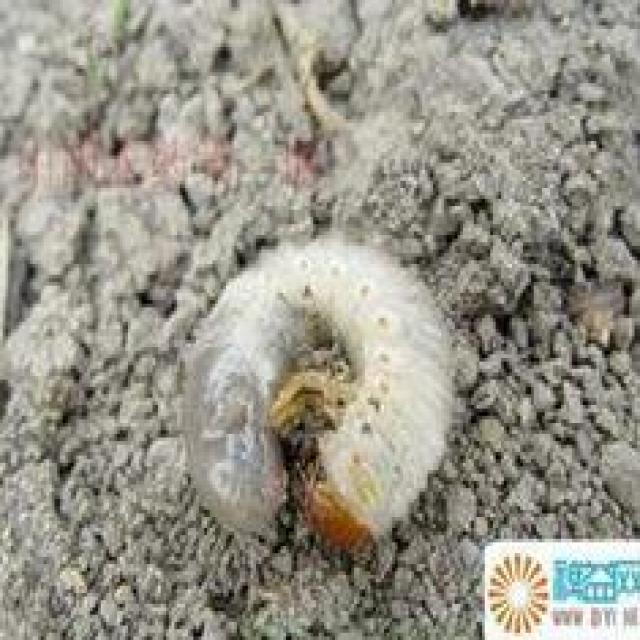Grub-Adult-: (175, 220, 482, 554)
